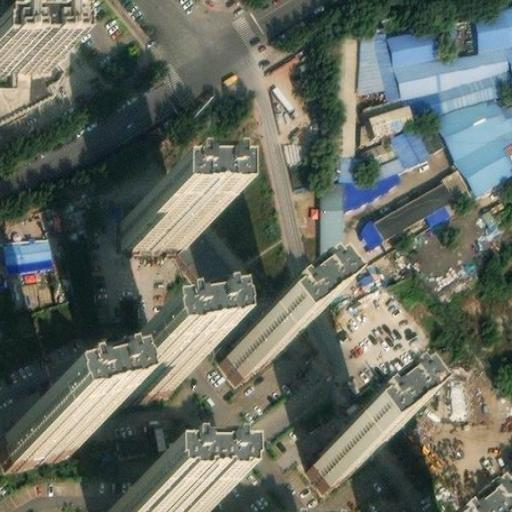building: (435, 95, 512, 153), (222, 315, 292, 378), (400, 222, 463, 288), (362, 184, 437, 237), (309, 428, 373, 486), (454, 131, 512, 190), (325, 36, 353, 157), (434, 40, 510, 82), (103, 361, 179, 398), (9, 424, 85, 461), (437, 70, 501, 108), (313, 183, 343, 256), (387, 20, 436, 60), (390, 113, 430, 159), (394, 52, 440, 90), (128, 216, 188, 245), (472, 2, 512, 45), (374, 29, 400, 94), (355, 32, 385, 88), (367, 95, 415, 127), (400, 82, 443, 114), (466, 485, 512, 511), (3, 233, 52, 257), (369, 150, 404, 176), (4, 253, 53, 266), (425, 196, 451, 220), (24, 278, 40, 302), (20, 263, 42, 280), (39, 280, 53, 299), (502, 99, 512, 122), (24, 267, 38, 280)
